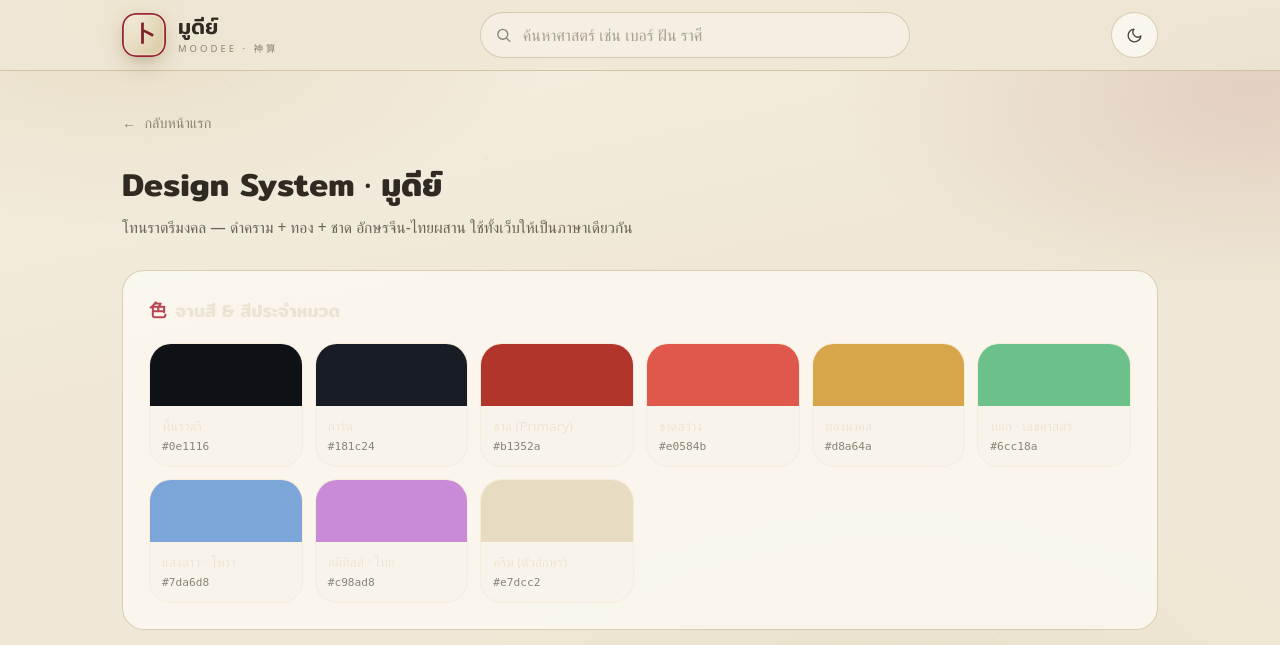
Test: App route switch › clicking the logo returns to the hub and clears the query
Click the text "卜" at (144, 35), box [122,13,166,57]
(page scrolled)
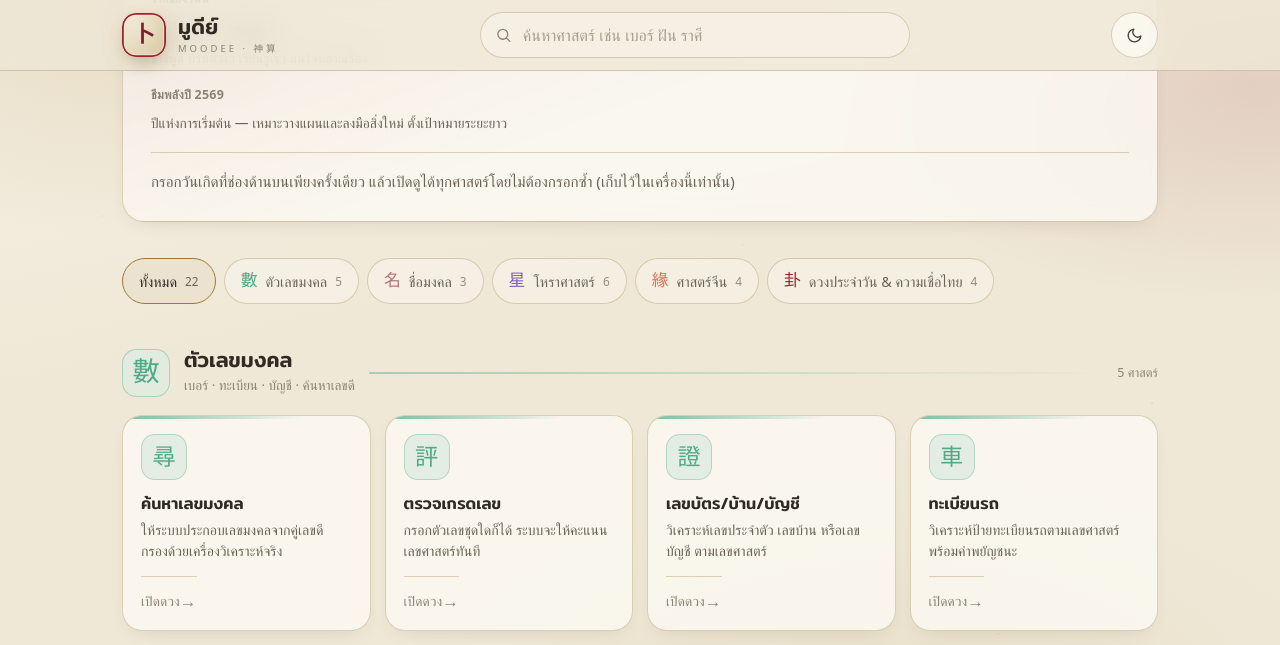
Expected: the heading "ตัวเลขมงคล" is shown, [184,343,292,376]
